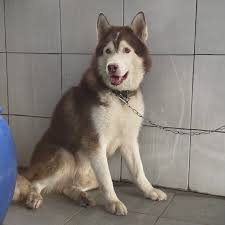Bulldog: (16, 9, 194, 223)
